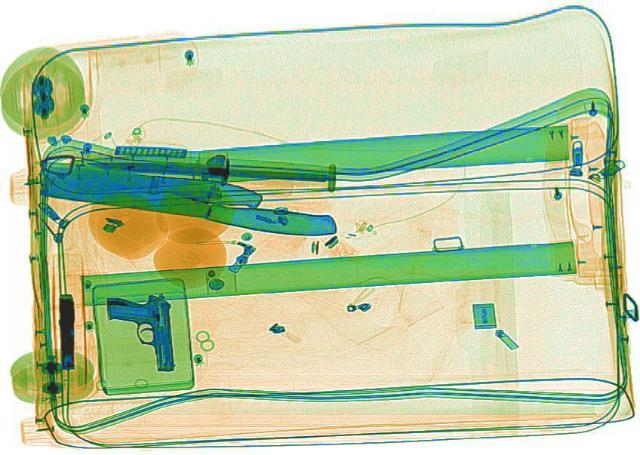Gun: (105, 291, 175, 372), (53, 293, 79, 368)
Knife: (32, 151, 348, 240), (38, 160, 266, 211), (85, 154, 328, 183)
